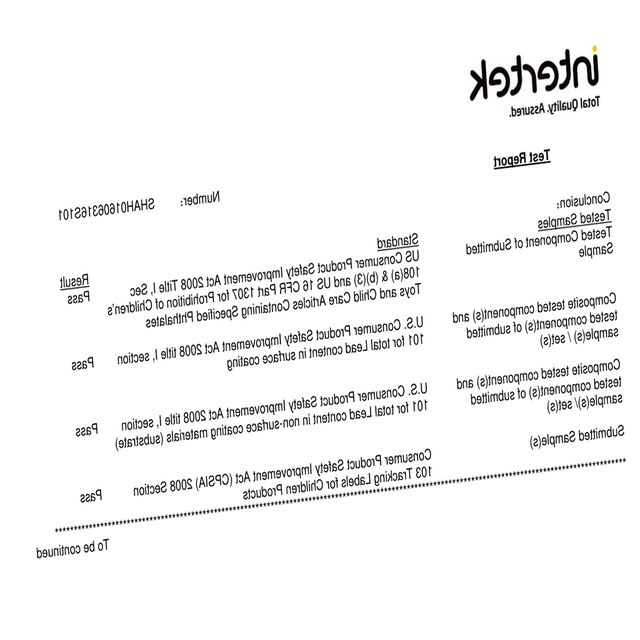intertek: (466, 42, 608, 102)
